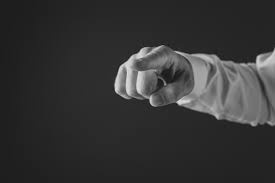pointing_gesture: (111, 45, 190, 107)
